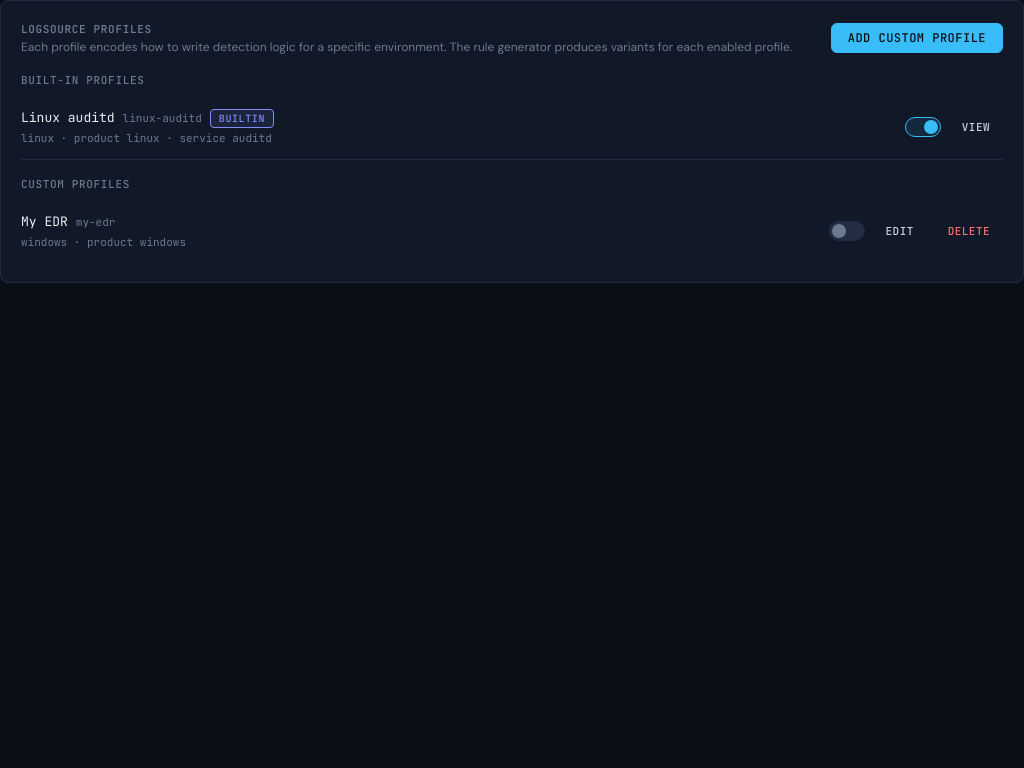
Test: ProfilesSection › opens an editable modal with a Save button for custom profiles
Expected: the text "My EDR" is shown, [21,213,68,230]
Click the button "Edit".
click(900, 231)  # box [873,220,927,242]
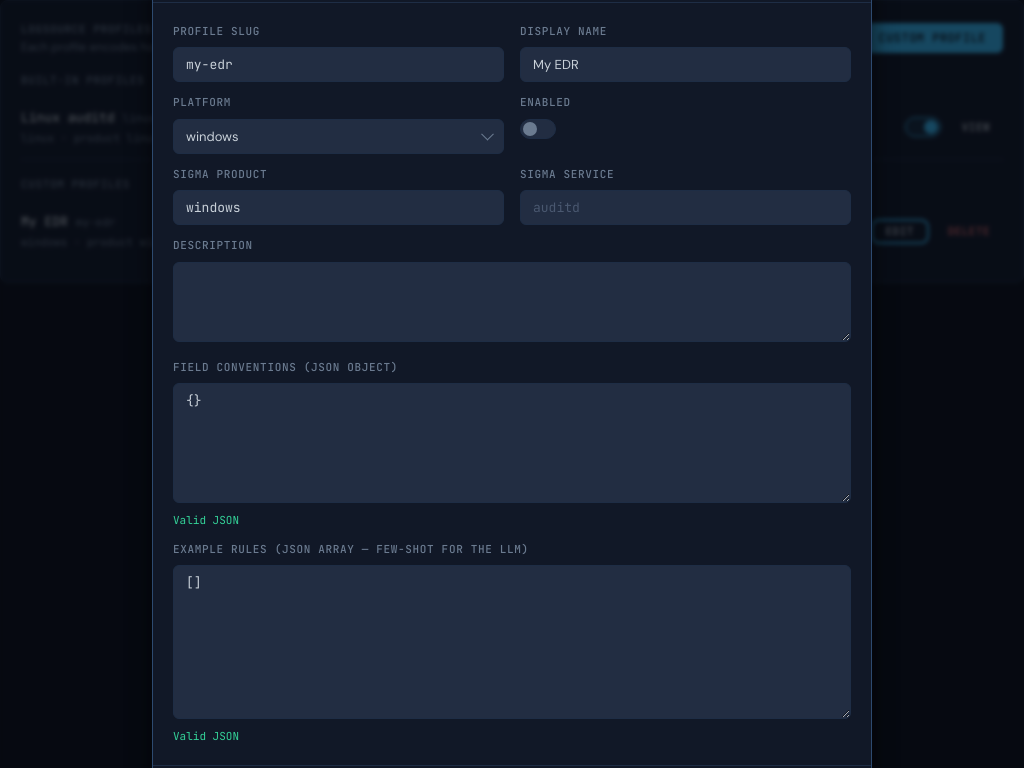
Expected: the field showing "My EDR" is enabled, [520,47,851,82]
